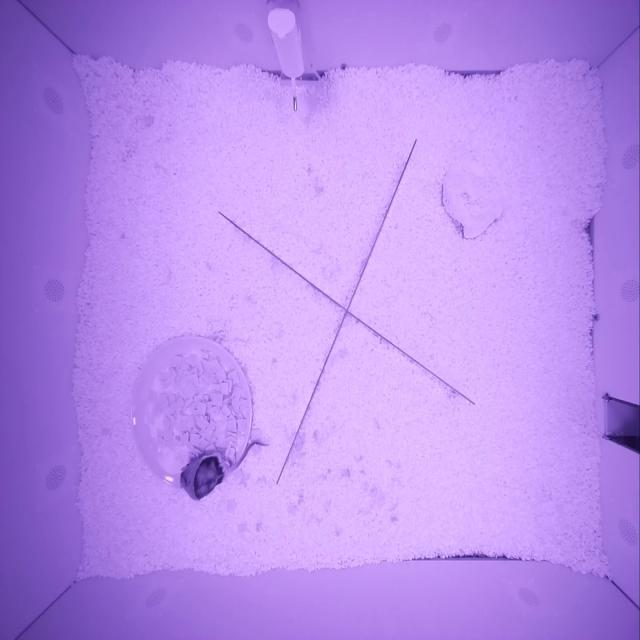adult_back: (177, 453, 228, 499)
